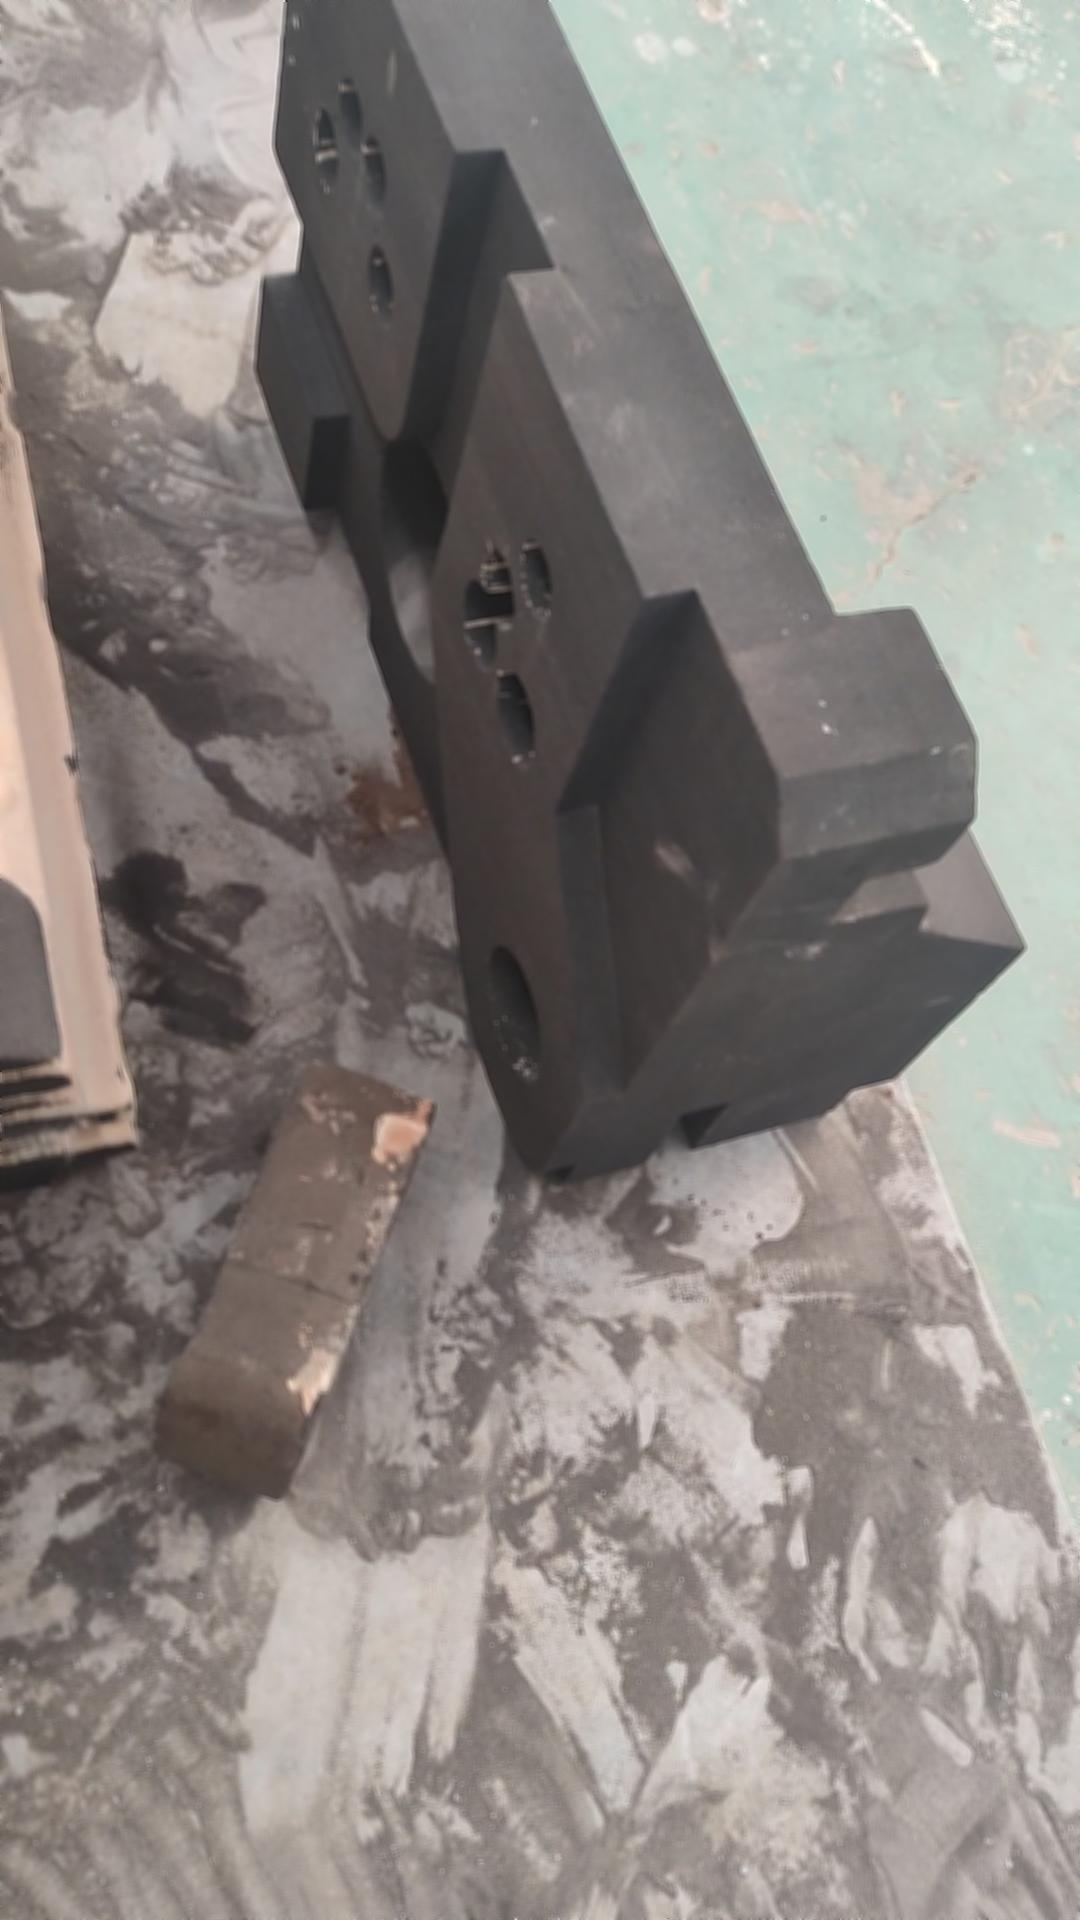pouring hole: (487, 945, 545, 1085)
